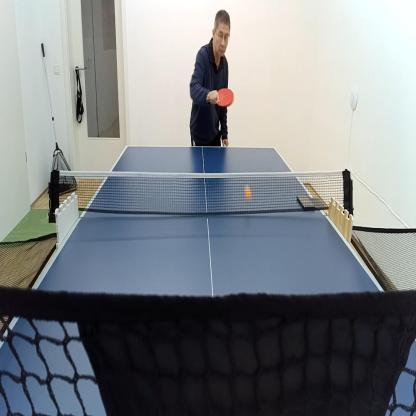Ball: (245, 186, 252, 200)
